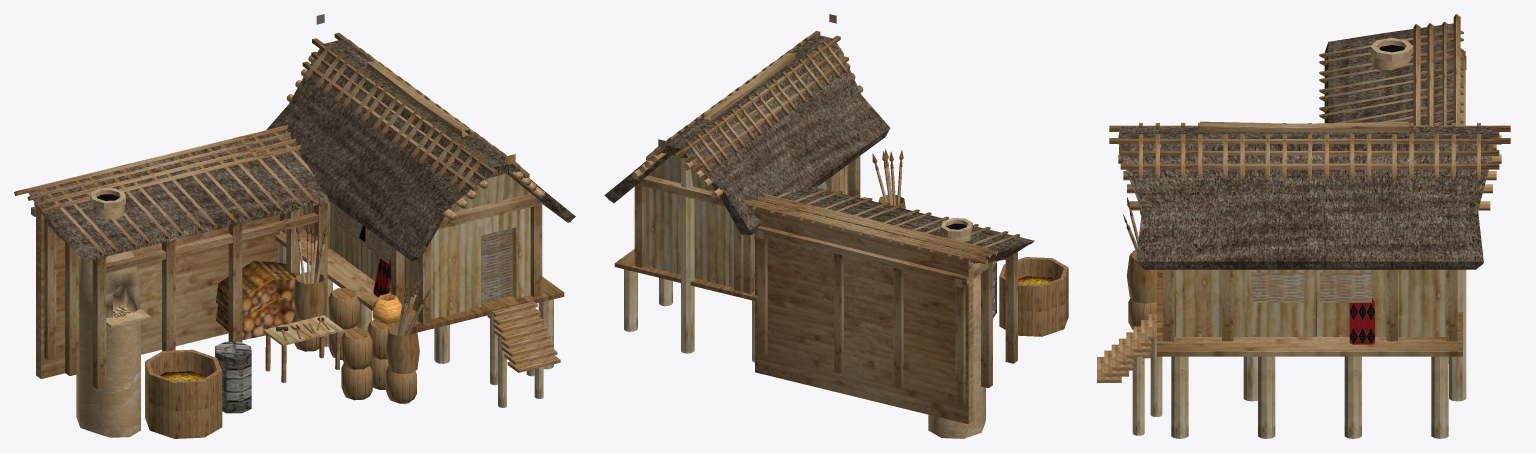
Rendered from yayoi_forge.dae.
The picture shows the model from 3 angles, left to right: view 1: azimuth 30°, elevation 25°; view 2: azimuth 150°, elevation 25°; view 3: azimuth 270°, elevation 25°; orthographic projection. The views are drawn at different scales.
Parts seen in each view (by area): view 1: forge; view 2: forge; view 3: forge.
Part boxes in pixels (x1,y1,x2,y2): forge: (14,14,575,438); forge: (604,14,1068,438); forge: (1097,14,1510,438).
Bounding box in the file's own units: 21.68 × 17.33 × 14.82.
1 material, 1 textured.
